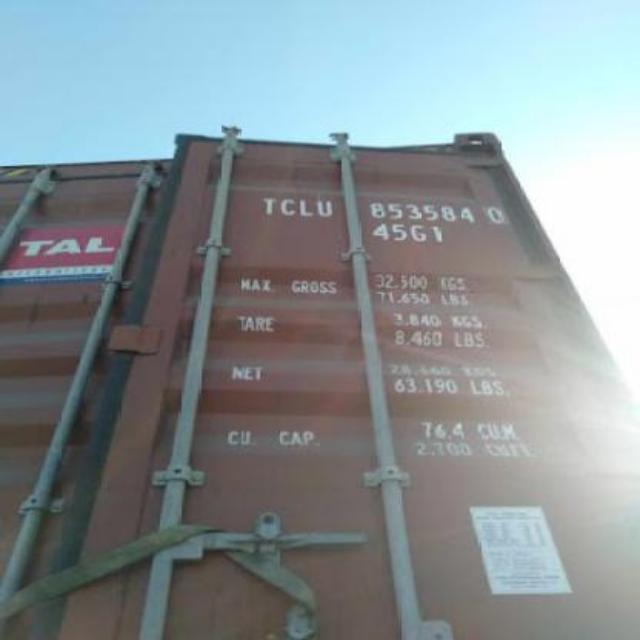0: (488, 208, 504, 224)
3: (406, 203, 422, 221)
4: (458, 207, 476, 223)
5: (386, 203, 404, 221), (422, 203, 440, 221)
8: (370, 201, 386, 221), (440, 205, 458, 221)
C: (277, 195, 293, 218)
L: (298, 200, 314, 216)
T: (254, 194, 276, 216)
U: (314, 199, 334, 217)
